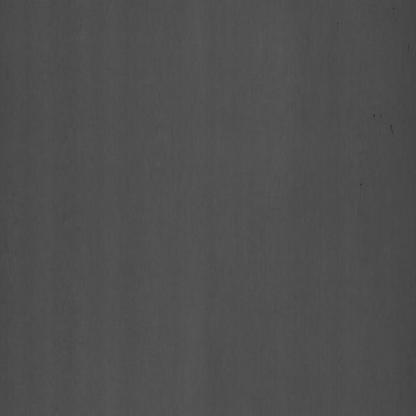inclusion: (370, 97, 399, 154)
